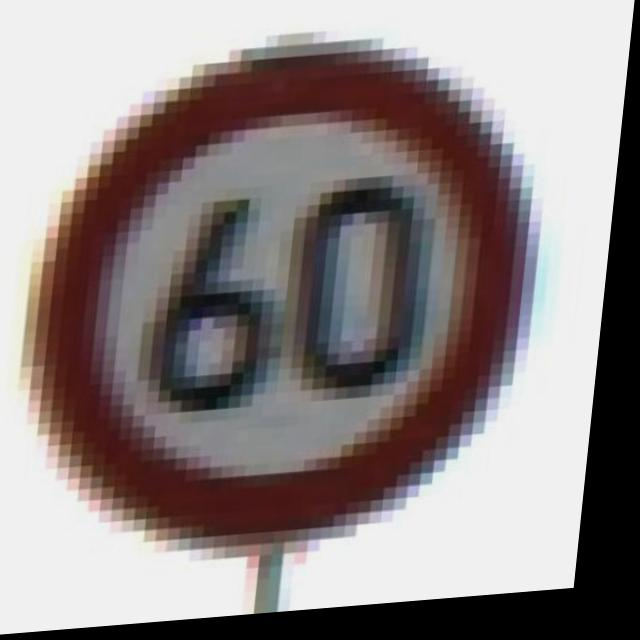limit60: (0, 15, 577, 585)
